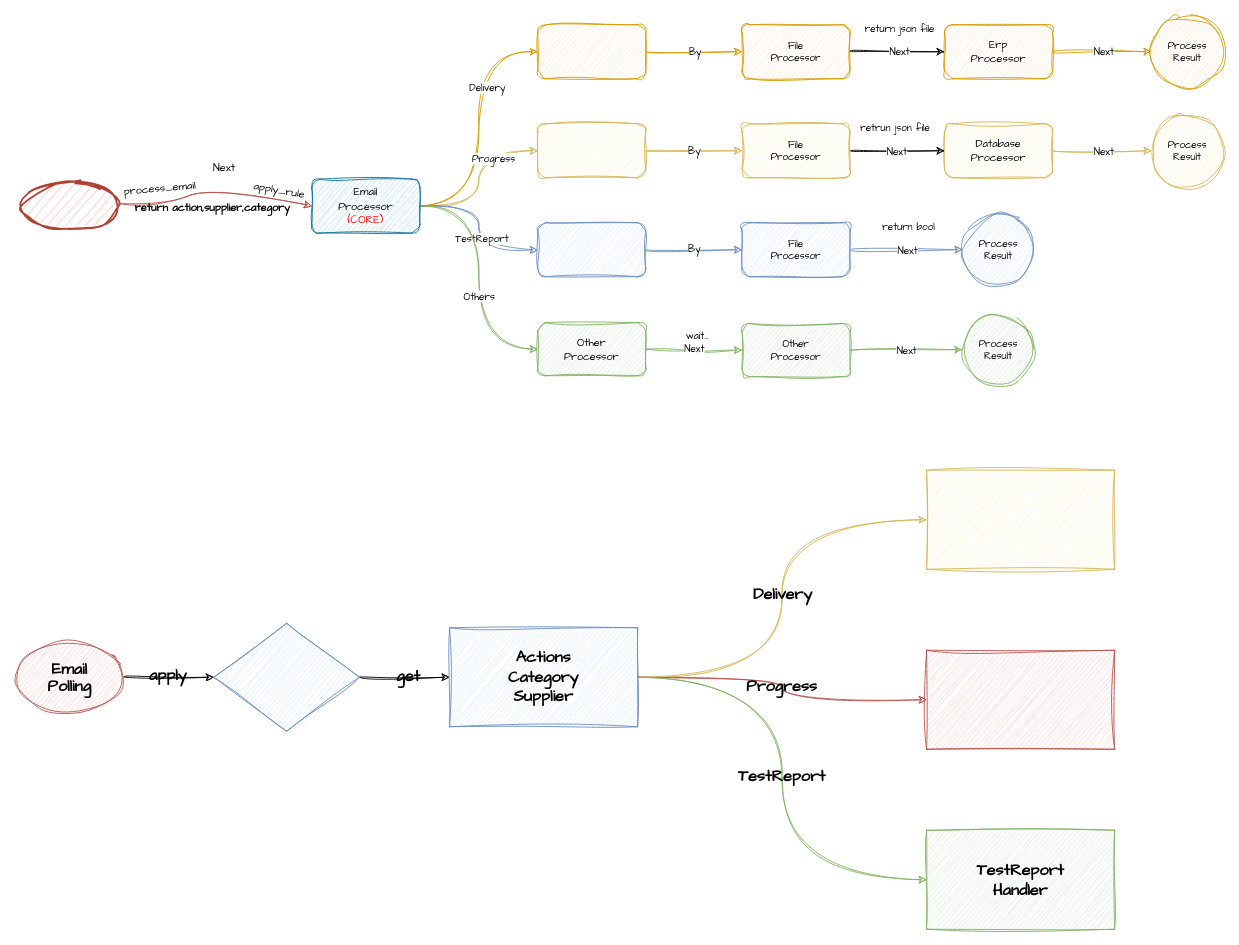
Image size: 1239x945. Some labels were removed from this diagram. Each missing label, with the centre of its shape:
"Apply Rule" belongs at [286,676].
"Delivery Handler" belongs at [1020,519].
"Delivery Processor" belongs at [591,51].
"EMAIL SERVICE" belongs at [69,205].
"Progress Handler" belongs at [1020,699].
"Progress Processor" belongs at [591,150].
"TestReport Processor" belongs at [591,249].
